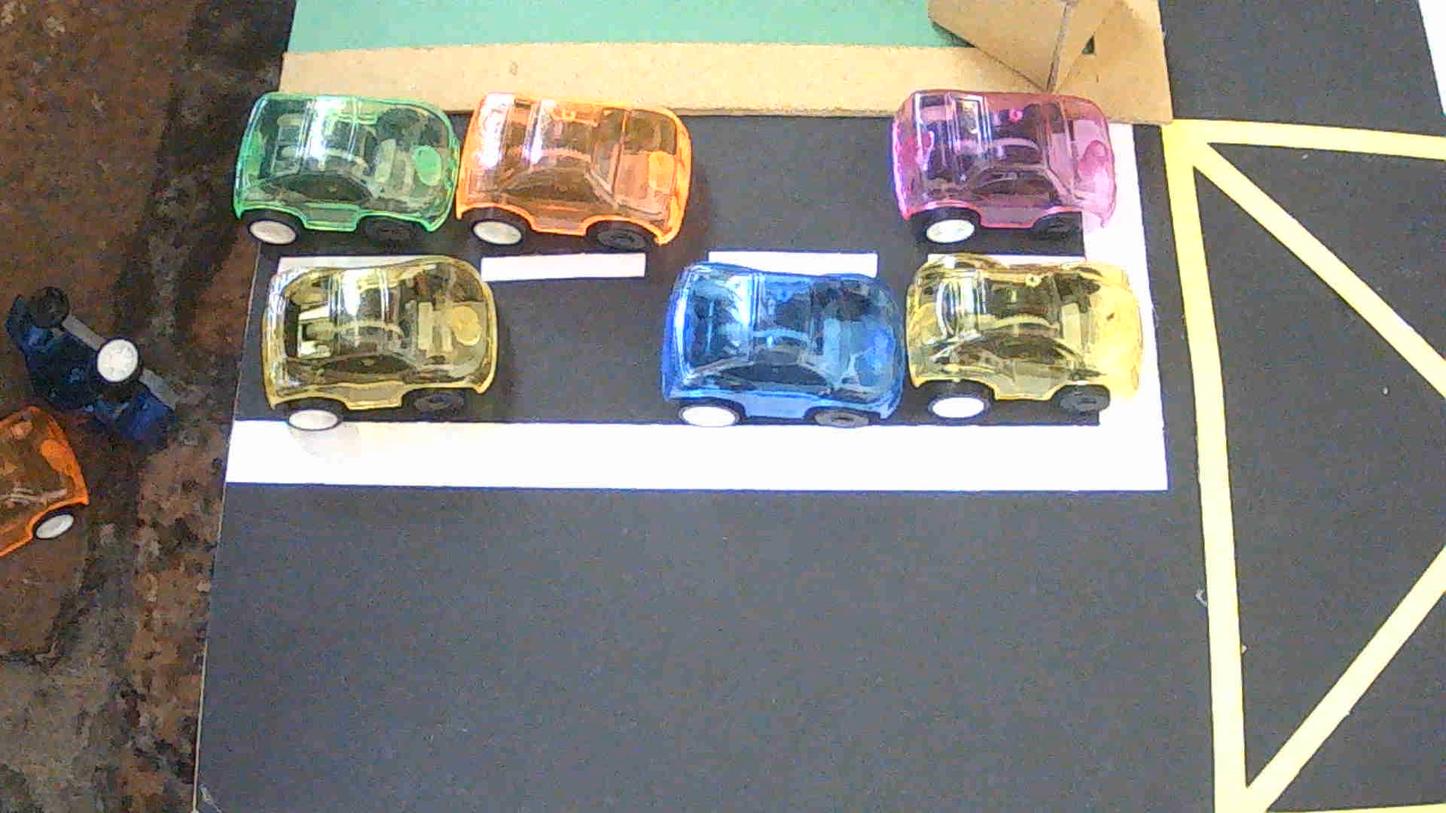Mobil biru: (660, 262, 906, 427)
Mobil hijau: (233, 92, 459, 245)
Mobil kuning: (261, 255, 498, 430), (905, 254, 1142, 422)
Mobil orange: (454, 93, 691, 251)
Mobil ungu: (892, 90, 1116, 246)
